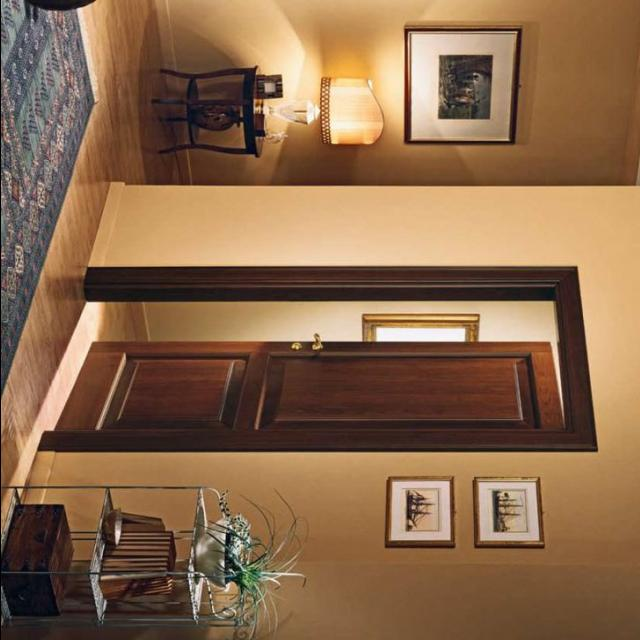open: (58, 272, 572, 458)
